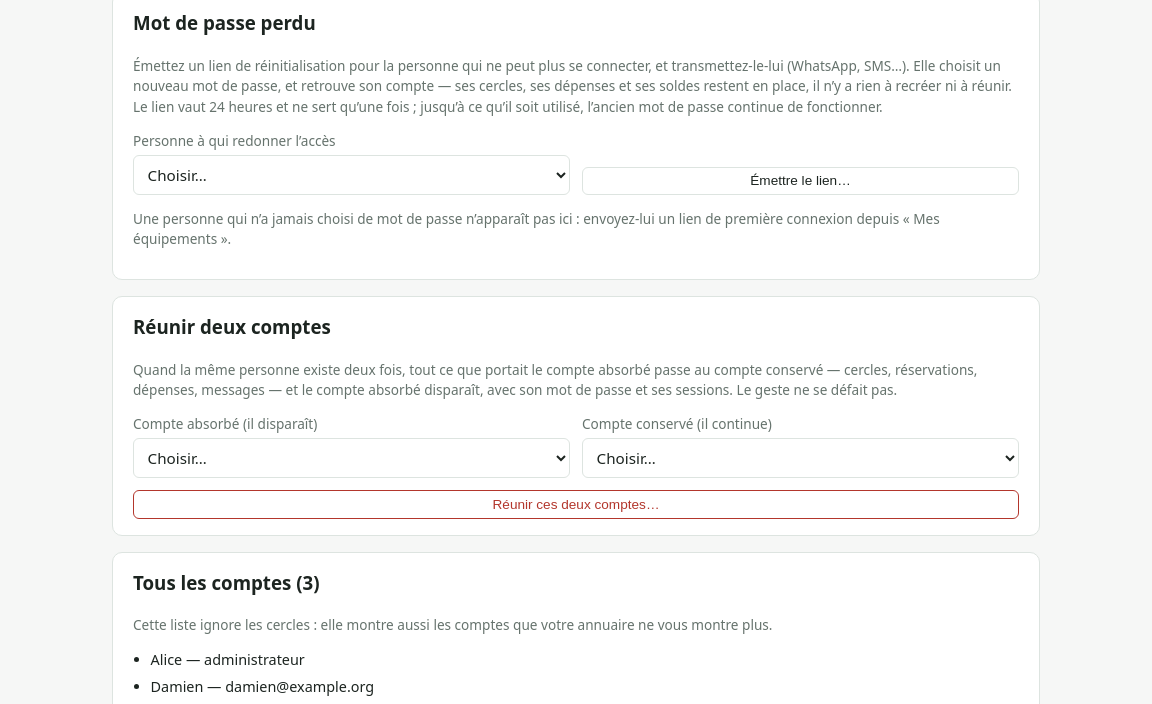
Test case: Écran d’administration › rend compte de la fusion faite et relit l’annuaire
This screenshot has width=1152, height=704.
Check: the heading "Tous les comptes (3)" is shown, box x1=133 y1=570 x2=320 y2=595
Select "Damien — damien@example.org" in the dropdown labelled "Compte absorbé (il disparaît)" at x=352, y=458, box x1=133 y1=438 x2=570 y2=478
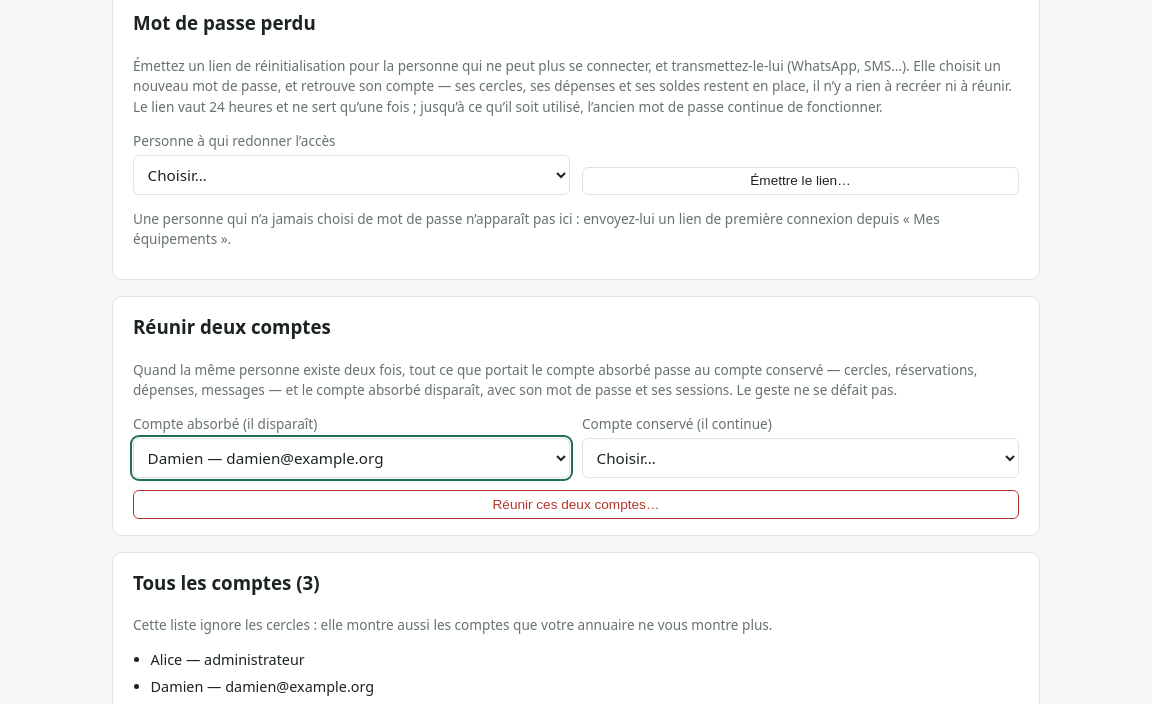
Select "Damien" in the dropdown labelled "Compte conservé (il continue)" at x=800, y=458, box x1=582 y1=438 x2=1019 y2=478
(page scrolled)
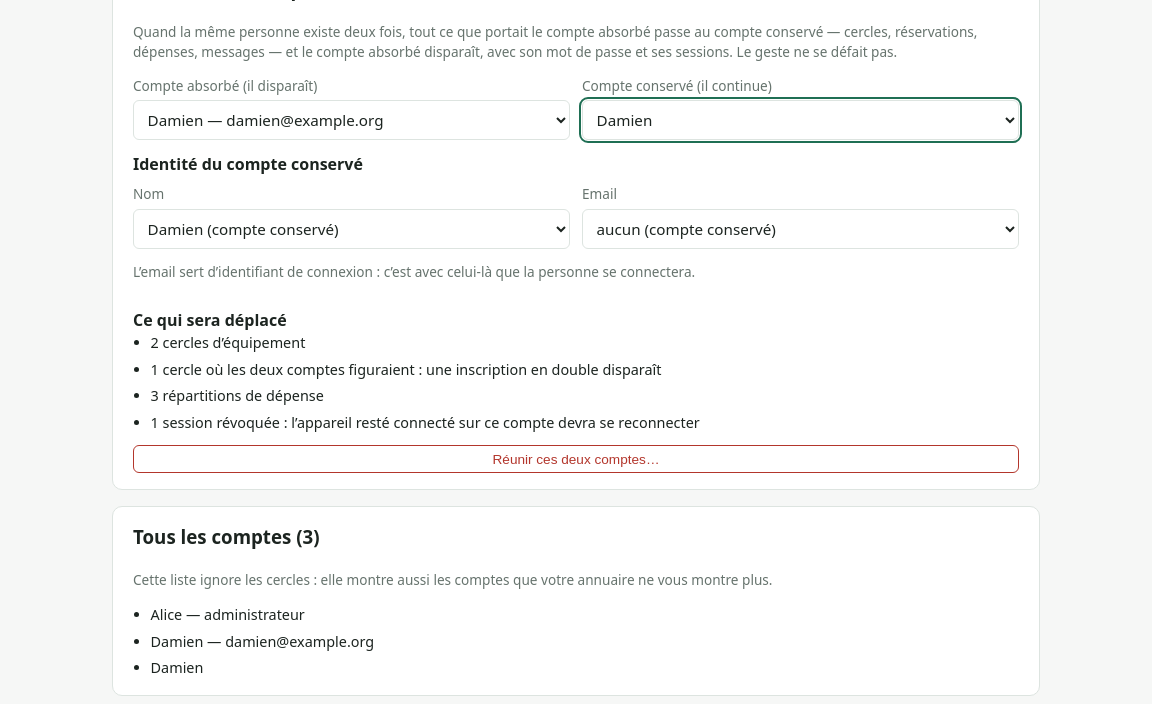
Check: the list item "3 répartitions de dépense" is shown, box x1=151 y1=386 x2=324 y2=405
Click the button "Réunir ces deux comptes…" at x=576, y=459, box x1=133 y1=445 x2=1019 y2=474
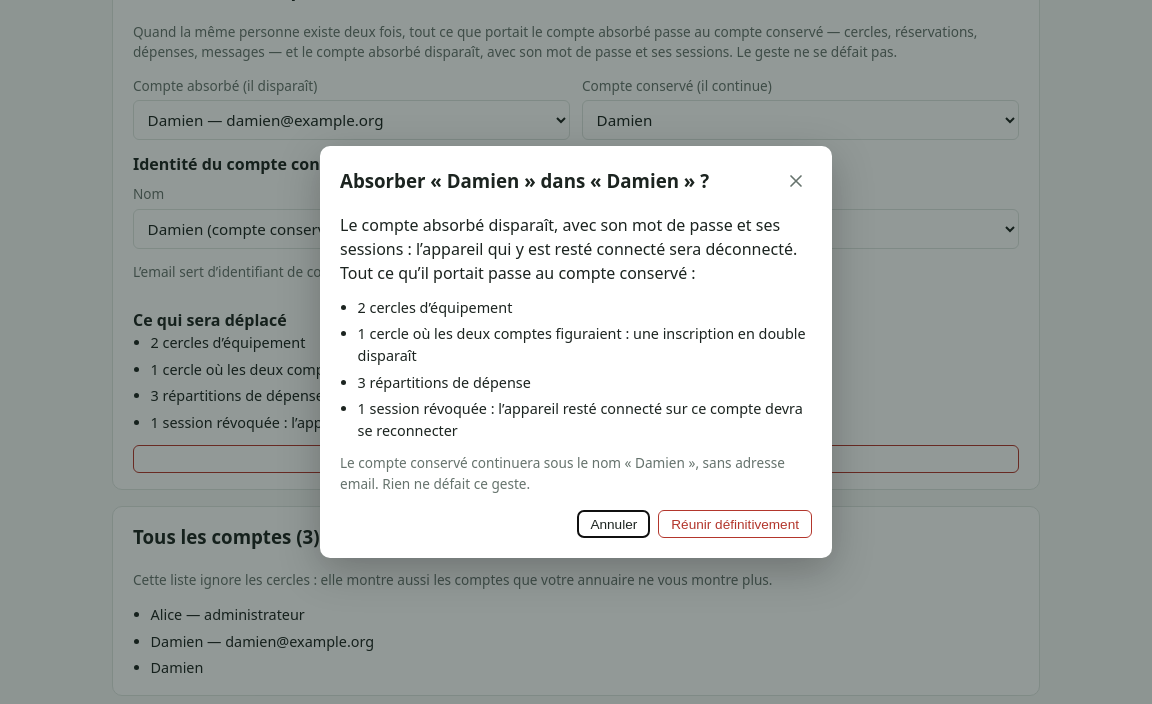
Check: the dialog is shown, box x1=320 y1=146 x2=832 y2=558
Click the button "Réunir définitivement" at x=735, y=524, box x1=658 y1=510 x2=812 y2=538
(page scrolled)
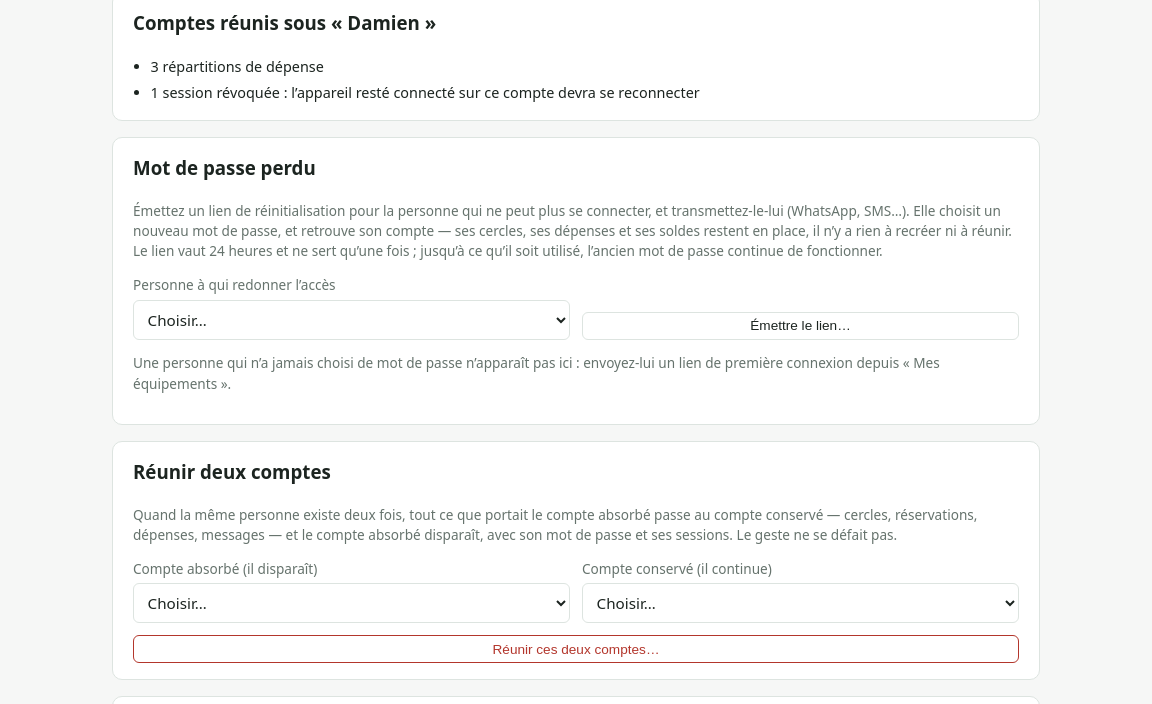
Check: the list item "3 répartitions de dépense" is shown, box x1=151 y1=57 x2=324 y2=76
Check: the heading "Comptes réunis sous « Damien »" is shown, box x1=133 y1=10 x2=436 y2=35
